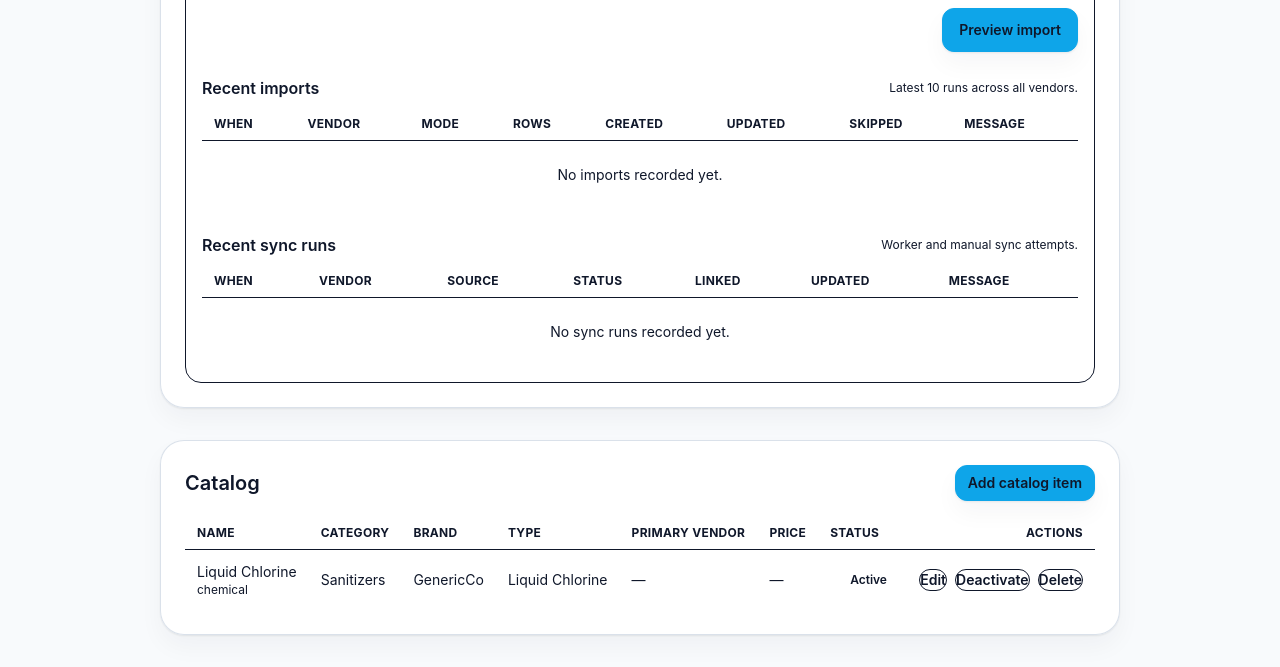
Test case: admin chemicals page › shows validation errors when required fields are missing
(page scrolled)
Click the button "Add catalog item".
click(1025, 483)  # box [955, 465, 1095, 501]
(page scrolled)
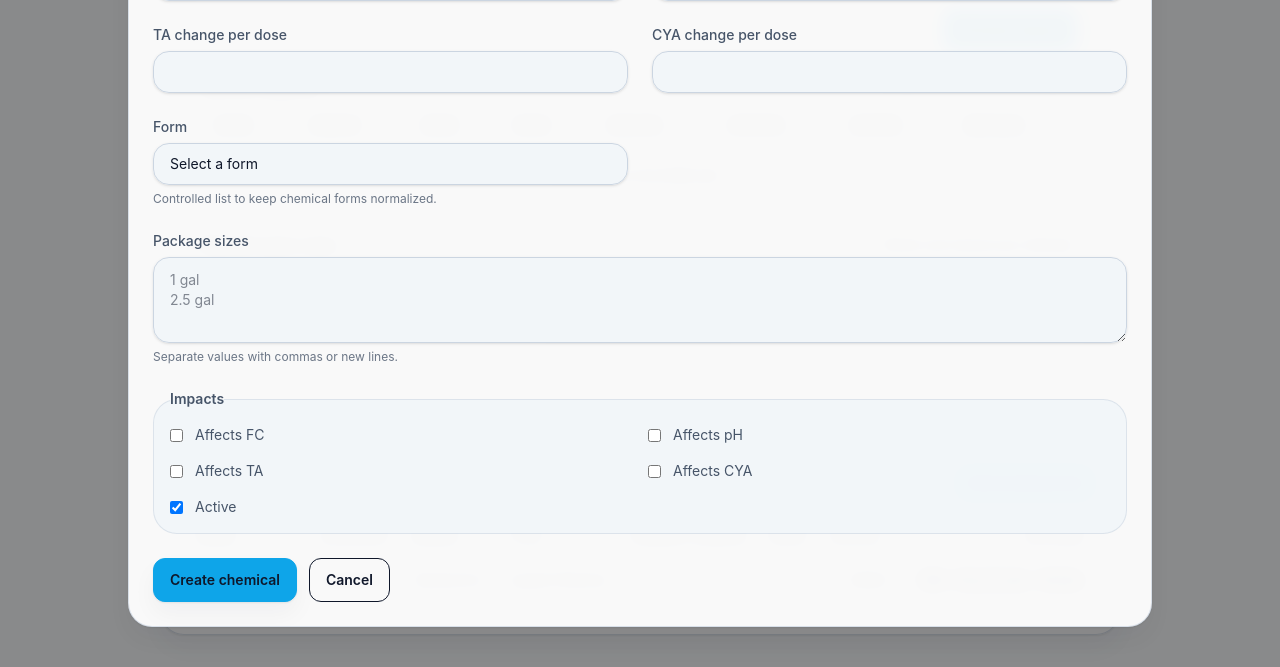
Click the button "Create chemical".
click(225, 580)  # box [153, 558, 297, 602]
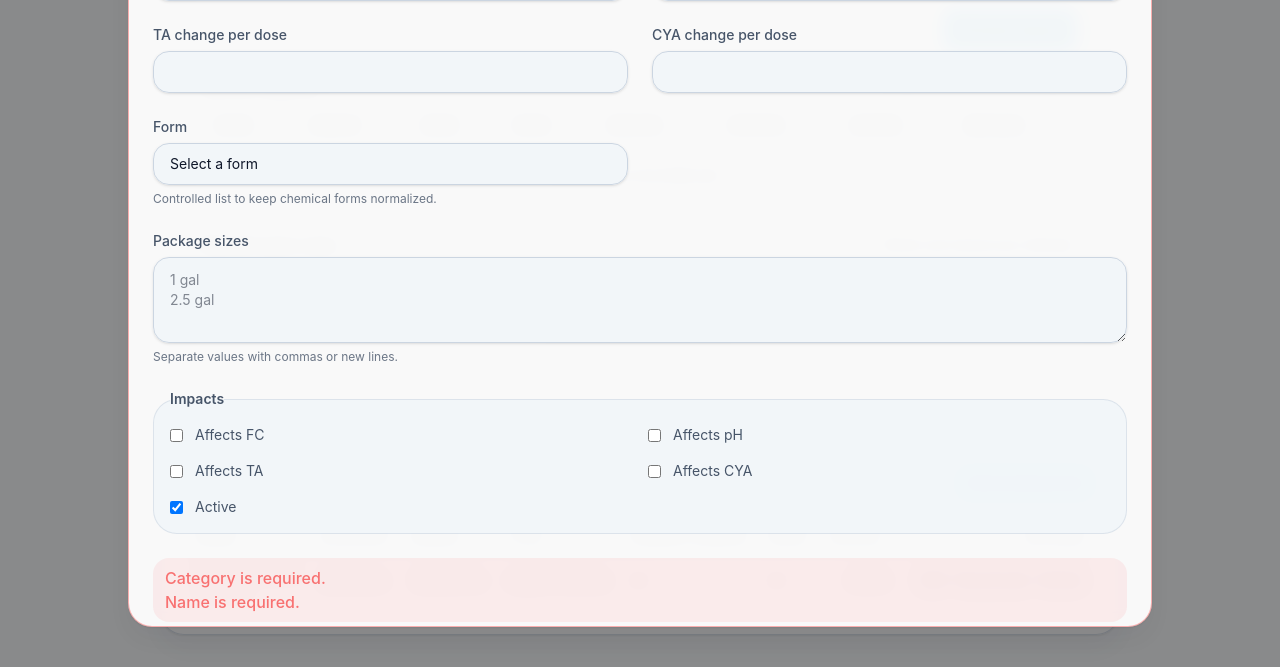
Expected: the message shows "Category is required.", [165, 568, 326, 588]
Expected: the message shows "Name is required.", [165, 592, 300, 612]
